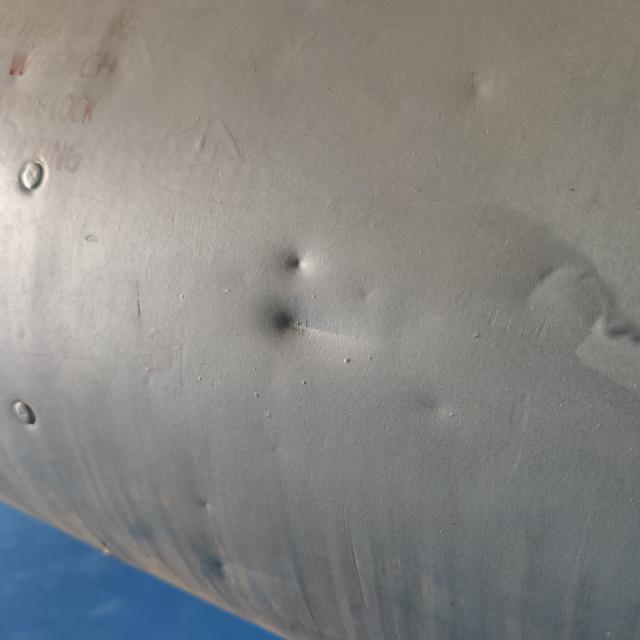dent: (499, 196, 640, 395), (258, 286, 365, 372), (268, 237, 330, 301), (193, 542, 248, 595)
